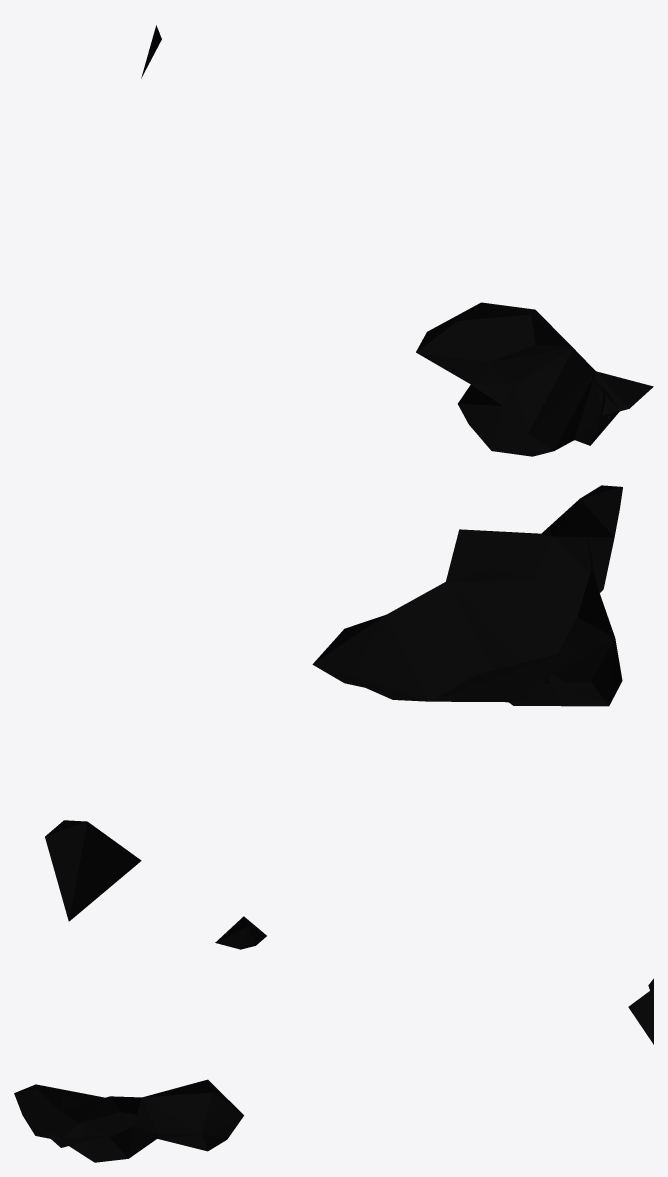
The picture shows the model from 3 angles, top to bottom: view 1: azimuth 30°, elevation 25°; view 2: azimuth 150°, elevation 25°; view 3: azimuth 270°, elevation 25°; orthographic projection. The views are drawn at different scales.
Bounding box in the file's own units: 0.7377 × 0.5118 × 2.02.
Materials: 1 (1 with a texture image).
